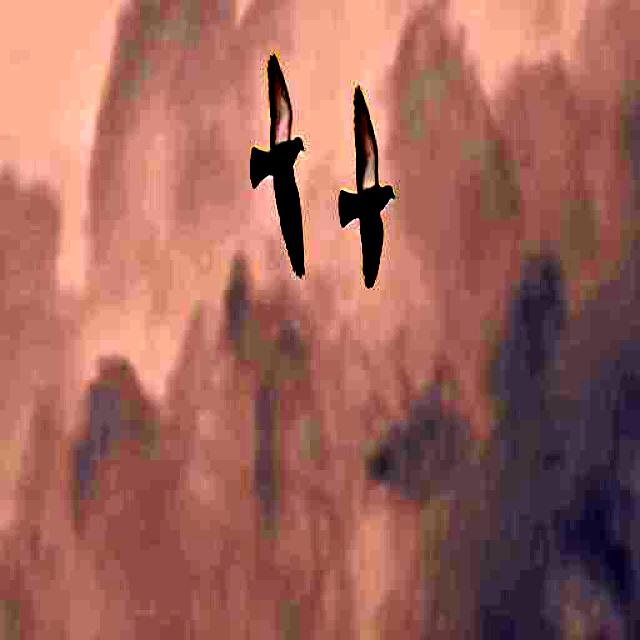airplane: (328, 58, 400, 320), (242, 44, 316, 290)
